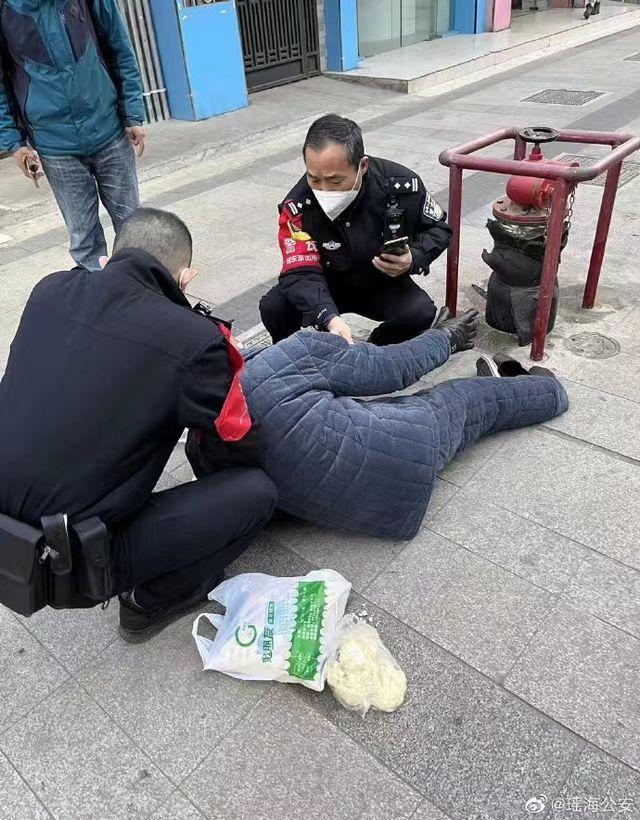bending: (1, 212, 282, 646), (248, 111, 458, 351)
down: (209, 319, 574, 545)
up: (1, 1, 149, 276)
